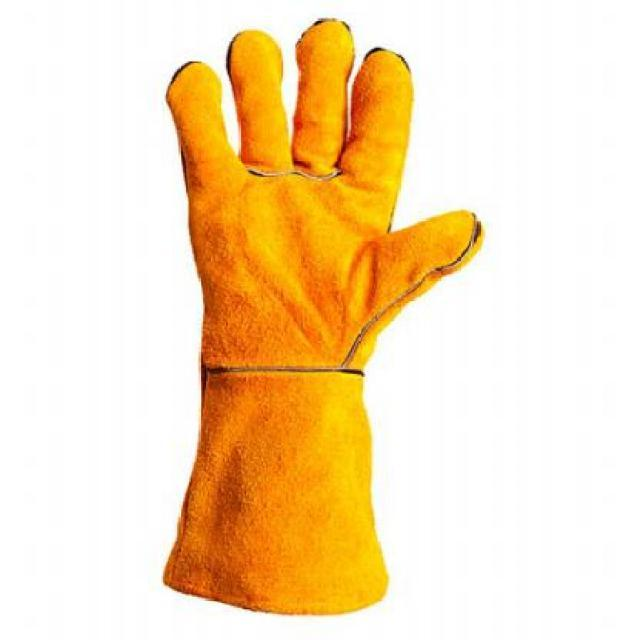Gloves: (152, 14, 482, 611)
